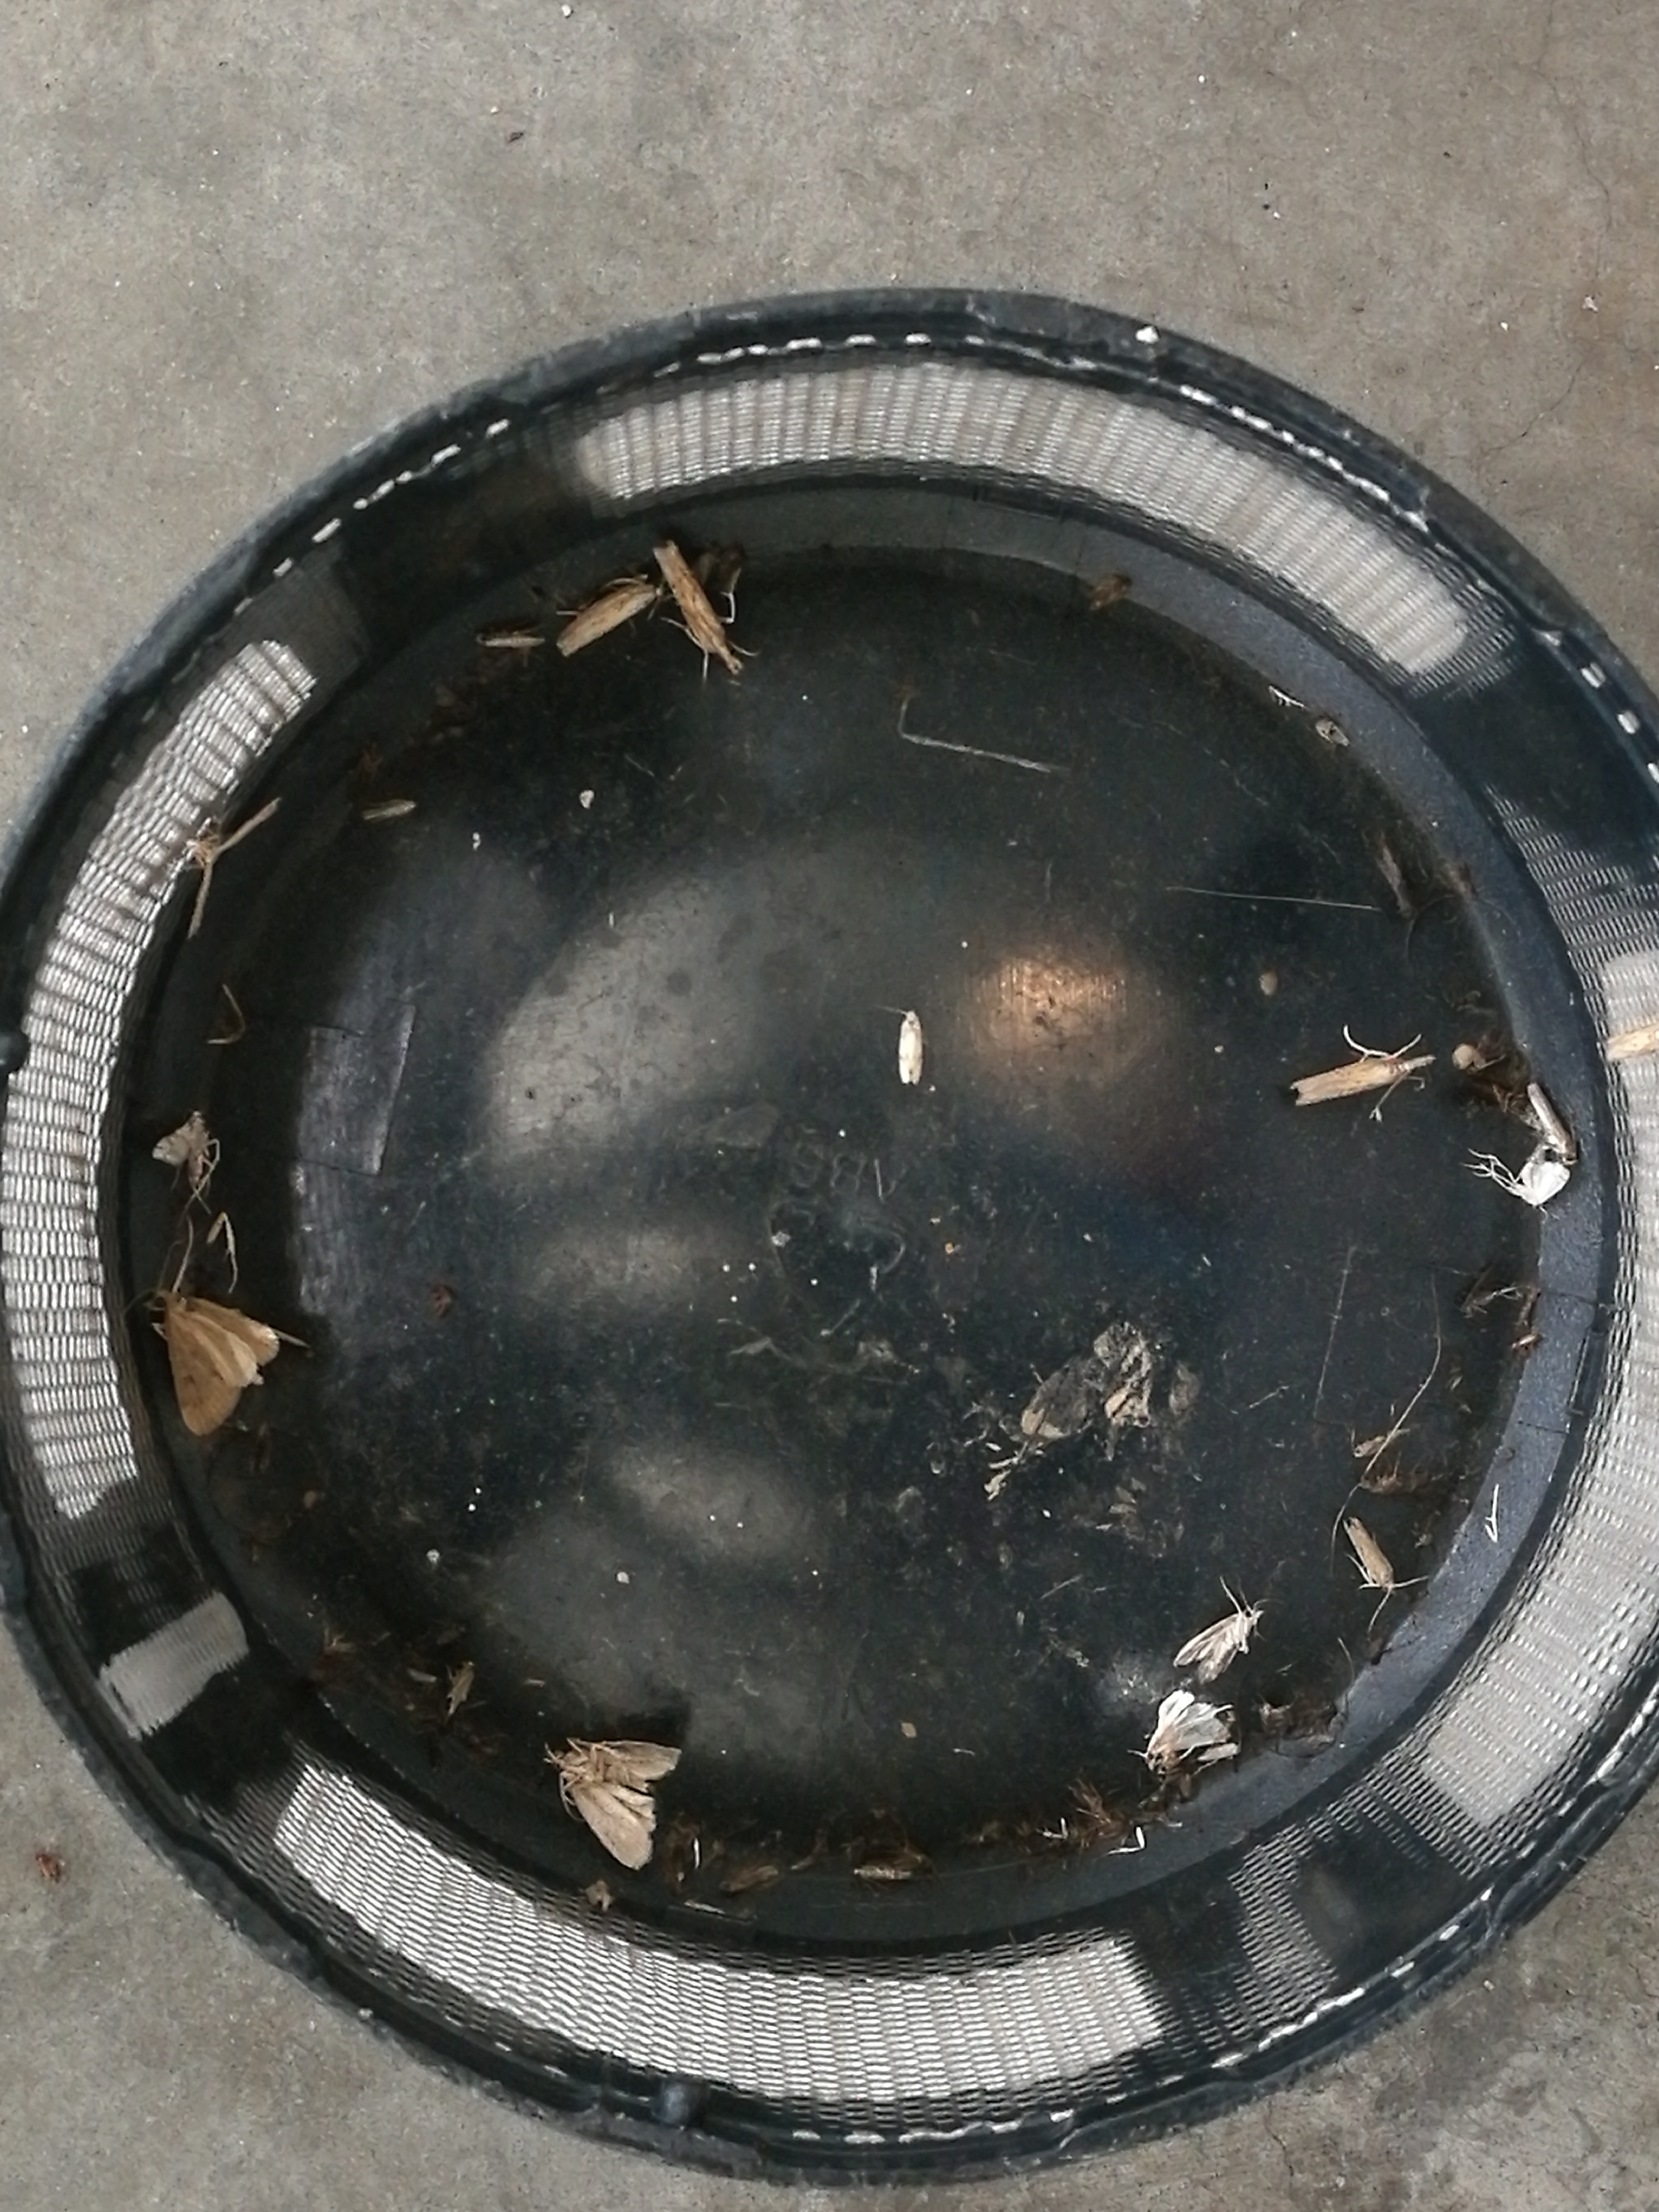mosquito: (655, 542, 727, 653), (558, 582, 660, 655), (1290, 1057, 1410, 1104), (1342, 1517, 1394, 1590), (1528, 1082, 1577, 1157), (899, 1008, 922, 1083), (718, 1867, 779, 1893), (1356, 1430, 1406, 1458), (477, 631, 544, 650), (854, 1865, 911, 1883)
moth: (146, 1291, 279, 1435), (552, 1737, 680, 1867), (1147, 1689, 1229, 1770), (1173, 1609, 1262, 1681), (153, 1111, 207, 1188), (1514, 1162, 1568, 1207)
